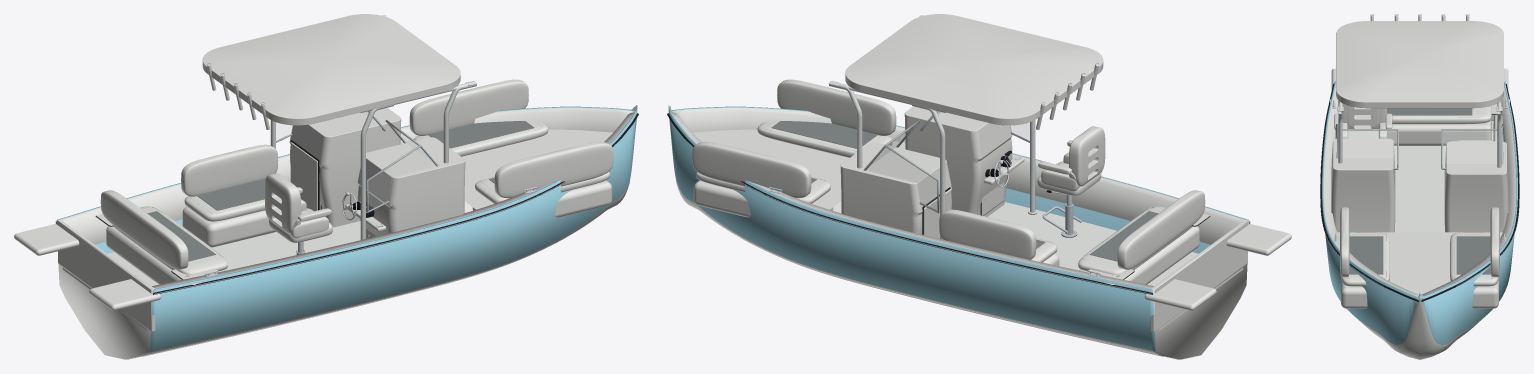
Rendered from Boat_dual-console.glb.
3 views of the same model, side by side, from view 1: azimuth 30°, elevation 25°; view 2: azimuth 150°, elevation 25°; view 3: azimuth 270°, elevation 25° (orthographic). The views are drawn at different scales.
Visible parts, largest first — view 1: Reference | continuous shaped fiberglass hull.005, Reference | sculpted fiberglass hardtop.001, Reference | contoured dual console, Reference | contoured dual console.001, Reference | shaped gunwale cap and inner liner.011, Reference | contoured lounge backrest, Reference | contoured lounge backrest.001, Reference | fitted raised bow casting deck.005, Reference | continuous nonskid cockpit sole.005, Reference | contoured lounge backrest.002, Reference | shaped vinyl backrest.013, Reference | integrated transom liner.005 (+21 smaller); view 2: Reference | continuous shaped fiberglass hull.005, Reference | sculpted fiberglass hardtop.001, Reference | shaped gunwale cap and inner liner.010, Reference | contoured dual console.001, Reference | contoured dual console, Reference | contoured lounge backrest.001, Reference | contoured lounge backrest, Reference | continuous nonskid cockpit sole.005, Reference | fitted raised bow casting deck.005, Reference | contoured lounge backrest.002, Reference | shaped vinyl backrest.013, Reference | integrated transom liner.005 (+19 smaller); view 3: Reference | sculpted fiberglass hardtop.001, Reference | continuous shaped fiberglass hull.005, Reference | contoured dual console, Reference | contoured dual console.001, Reference | continuous nonskid cockpit sole.005, Reference | fitted raised bow casting deck.005, Reference | molded seating storage base.006, Reference | walk-through windshield panel.001, Reference | shaped gunwale cap and inner liner.011, Reference | walk-through windshield panel, Reference | shaped gunwale cap and inner liner.010, Reference | upholstered cushion.016 (+18 smaller).
Part boxes in pixels (left/top/right/bottom): Reference | continuous shaped fiberglass hull.005: left=56, top=105, right=637, bottom=359; Reference | sculpted fiberglass hardtop.001: left=202, top=14, right=460, bottom=125; Reference | contoured dual console: left=357, top=137, right=465, bottom=236; Reference | contoured dual console.001: left=289, top=107, right=401, bottom=227; Reference | shaped gunwale cap and inner liner.011: left=59, top=107, right=634, bottom=244; Reference | contoured lounge backrest: left=494, top=141, right=613, bottom=198; Reference | contoured lounge backrest.001: left=409, top=79, right=528, bottom=135; Reference | fitted raised bow casting deck.005: left=400, top=129, right=612, bottom=209; Reference | continuous nonskid cockpit sole.005: left=62, top=221, right=360, bottom=330; Reference | contoured lounge backrest.002: left=181, top=144, right=278, bottom=196; Reference | shaped vinyl backrest.013: left=100, top=190, right=188, bottom=269; Reference | integrated transom liner.005: left=58, top=220, right=155, bottom=331; Reference | continuous shaped fiberglass hull.005: left=668, top=105, right=1249, bottom=359; Reference | sculpted fiberglass hardtop.001: left=845, top=14, right=1103, bottom=125; Reference | shaped gunwale cap and inner liner.010: left=671, top=107, right=1246, bottom=244; Reference | contoured dual console.001: left=840, top=142, right=951, bottom=234; Reference | contoured dual console: left=904, top=106, right=1012, bottom=216; Reference | contoured lounge backrest.001: left=692, top=141, right=811, bottom=198; Reference | contoured lounge backrest: left=777, top=79, right=896, bottom=135; Reference | continuous nonskid cockpit sole.005: left=988, top=202, right=1243, bottom=330; Reference | fitted raised bow casting deck.005: left=693, top=129, right=905, bottom=209; Reference | contoured lounge backrest.002: left=939, top=209, right=1036, bottom=259; Reference | shaped vinyl backrest.013: left=1117, top=190, right=1205, bottom=269; Reference | integrated transom liner.005: left=1150, top=220, right=1247, bottom=331; Reference | sculpted fiberglass hardtop.001: left=1336, top=21, right=1503, bottom=108; Reference | continuous shaped fiberglass hull.005: left=1322, top=81, right=1517, bottom=359; Reference | contoured dual console: left=1331, top=138, right=1395, bottom=232; Reference | contoured dual console.001: left=1444, top=141, right=1508, bottom=232; Reference | continuous nonskid cockpit sole.005: left=1394, top=121, right=1493, bottom=232; Reference | fitted raised bow casting deck.005: left=1337, top=232, right=1502, bottom=294; Reference | molded seating storage base.006: left=1387, top=115, right=1491, bottom=145; Reference | walk-through windshield panel.001: left=1443, top=130, right=1496, bottom=167; Reference | shaped gunwale cap and inner liner.011: left=1420, top=85, right=1516, bottom=298; Reference | walk-through windshield panel: left=1343, top=130, right=1396, bottom=167; Reference | shaped gunwale cap and inner liner.010: left=1323, top=85, right=1418, bottom=296; Reference | upholstered cushion.016: left=1392, top=105, right=1491, bottom=124.
Size of the model in its own units: 7.76 by 3.1 by 2.64.
